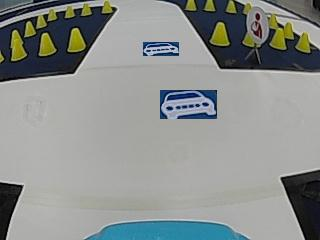cone: (210, 22, 230, 46), (67, 28, 86, 52), (10, 31, 26, 59), (38, 33, 56, 56), (271, 29, 286, 49), (296, 31, 310, 52), (24, 20, 36, 36), (100, 1, 113, 14), (268, 13, 279, 28), (80, 3, 92, 16), (36, 14, 47, 27), (64, 5, 75, 18), (185, 0, 196, 11), (204, 0, 215, 11), (226, 1, 236, 13), (47, 8, 57, 20)
patient: (249, 5, 267, 45)
